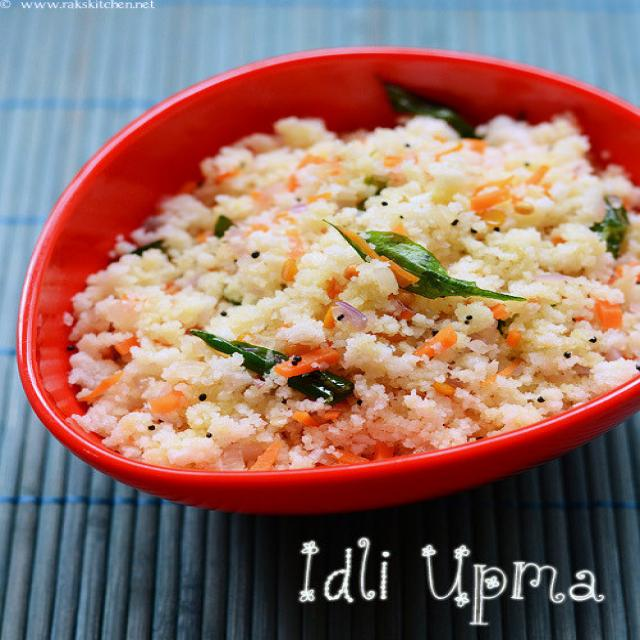UPMA: (73, 116, 639, 469)
